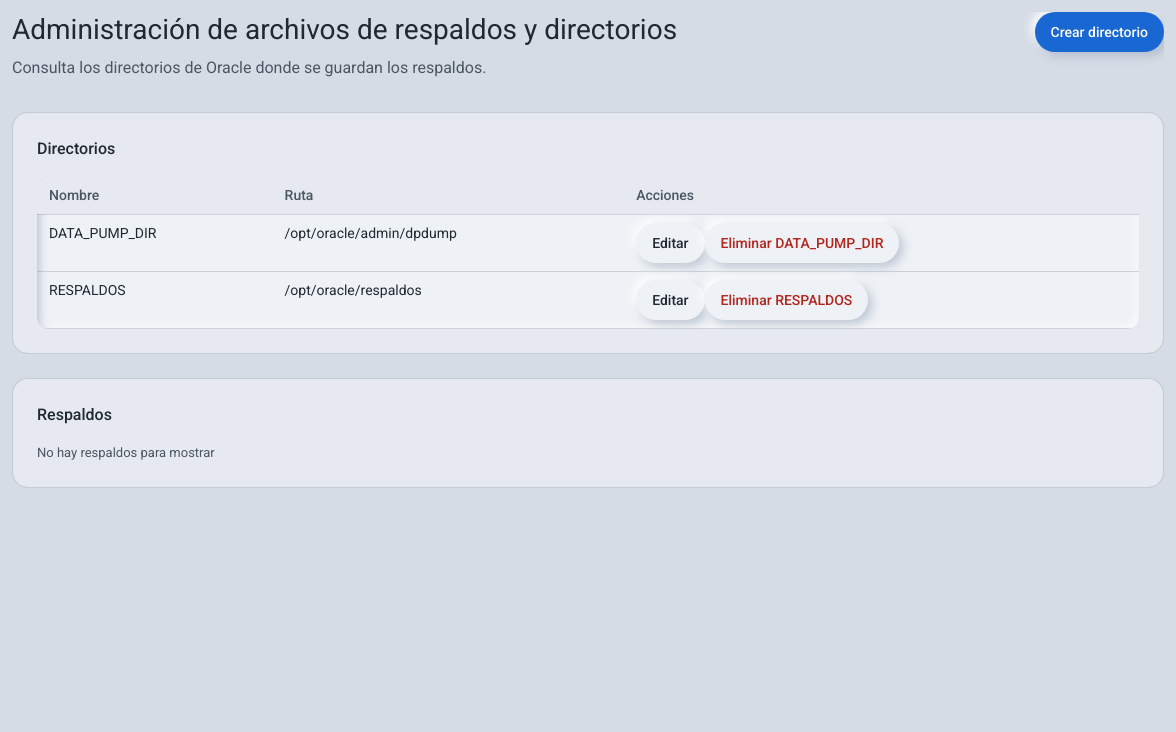
Test: crear directorio › el formulario pide nombre y ruta y muestra los ejemplos de ruta del servidor
expect the text "RESPALDOS" is shown: met, box [37, 272, 273, 328]
Click the button "Crear directorio" at (1099, 32), box [1035, 12, 1164, 52]
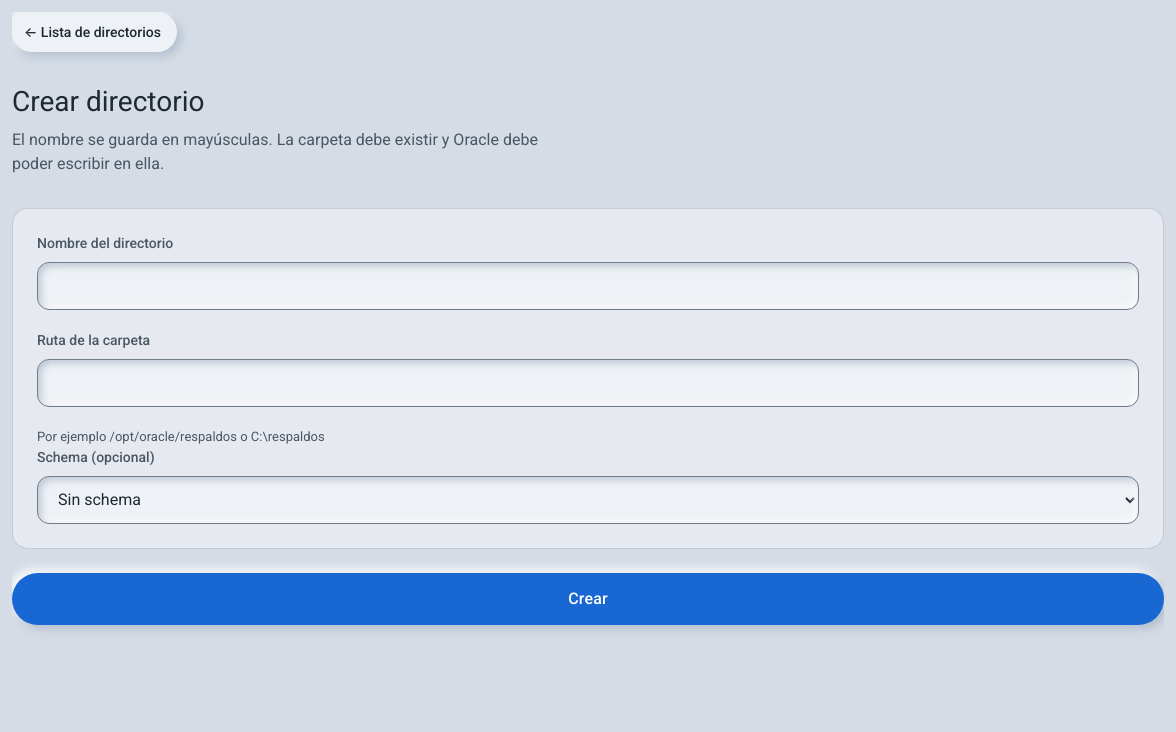
expect the field labelled "Nombre del directorio" is shown: met, box [37, 262, 1139, 310]
expect the field labelled "Ruta de la carpeta" is shown: met, box [37, 359, 1139, 407]
expect the text "Por ejemplo /opt/oracle/respaldos o C:\\respaldos" is shown: met, box [37, 429, 325, 444]
